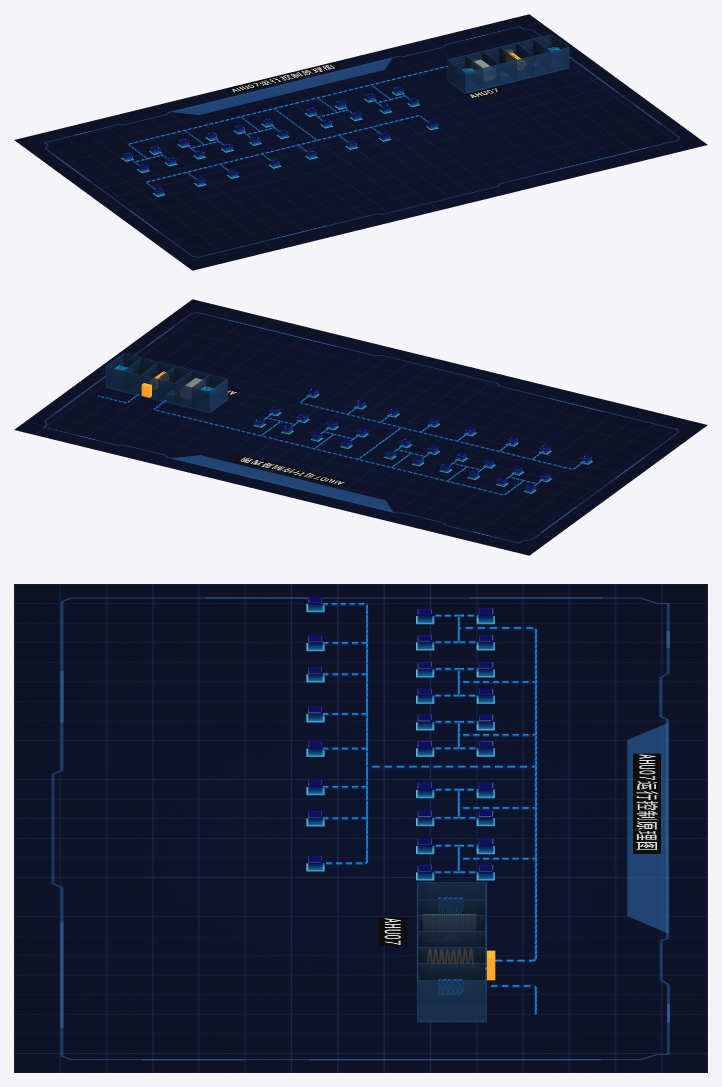
File: AHU07.FBX
3 views of the same model, one above another, from view 1: azimuth 30°, elevation 25°; view 2: azimuth 150°, elevation 25°; view 3: azimuth 270°, elevation 25° (orthographic). The views are drawn at different scales.
Parts seen in each view (by area): view 1: BG, MAU_Body, AHU07_Pipe, Outlet294, AHU07_Wind, RoomName; view 2: BG, MAU_Body, AHU07_Pipe, Outlet294, AHU07_Wind, RoomName; view 3: BG, MAU_Body, AHU07_Pipe, Outlet294, AHU07_Wind, RoomName, Coil.
Part boxes in pixels (box(x1,y1,x2,y2)): BG: box(14, 14, 707, 270); MAU_Body: box(447, 34, 569, 93); AHU07_Pipe: box(128, 65, 446, 188); Outlet294: box(121, 86, 438, 196); AHU07_Wind: box(128, 66, 447, 188); RoomName: box(228, 62, 503, 99); BG: box(14, 299, 707, 555); MAU_Body: box(105, 353, 227, 412); AHU07_Pipe: box(98, 393, 584, 495); Outlet294: box(253, 389, 592, 493); AHU07_Wind: box(98, 394, 584, 495); RoomName: box(210, 384, 346, 486); BG: box(14, 584, 707, 1072); MAU_Body: box(417, 882, 486, 1022); AHU07_Pipe: box(323, 602, 537, 1014); Outlet294: box(306, 596, 494, 880); AHU07_Wind: box(322, 603, 536, 1014); RoomName: box(378, 753, 660, 946); Coil: box(423, 914, 475, 930).
Bounding box in the file's own units: 250 × 14.04 × 150.
